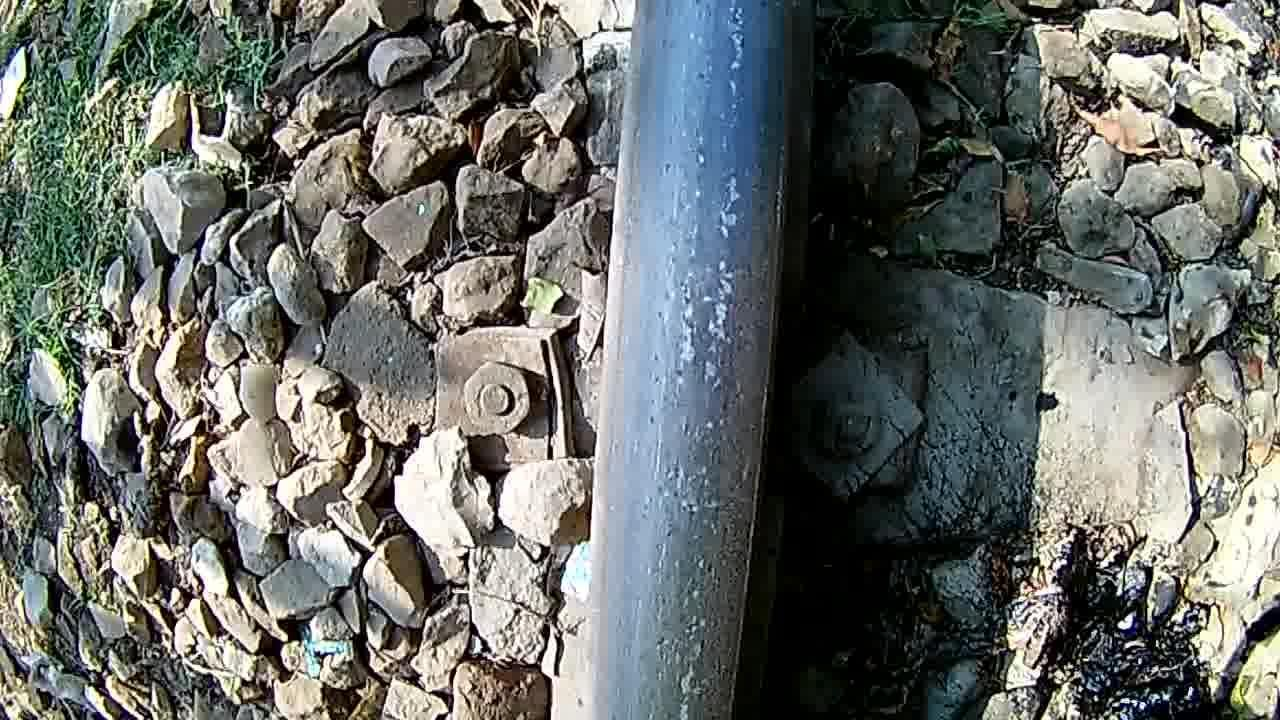crack: (584, 4, 794, 718)
